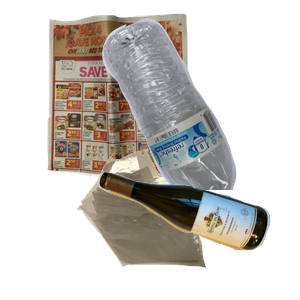glass: (95, 168, 300, 300)
paper: (44, 11, 229, 181)
plastic: (100, 16, 300, 196)
trash: (74, 148, 273, 300)
